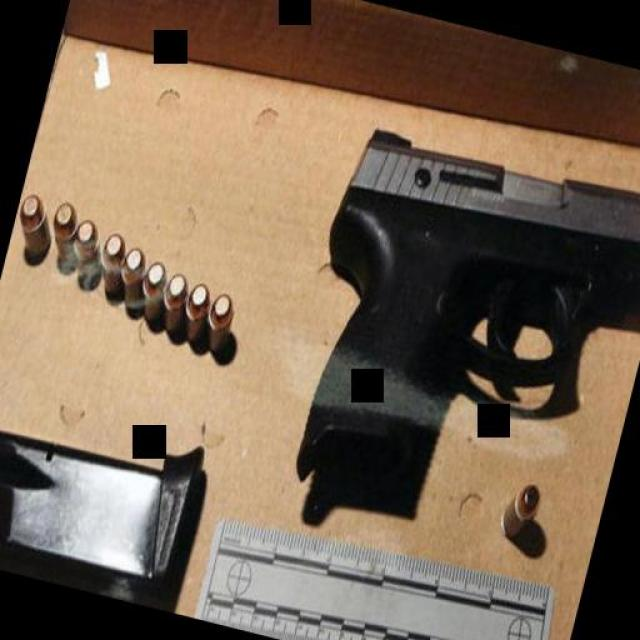gun: (270, 118, 640, 546)
